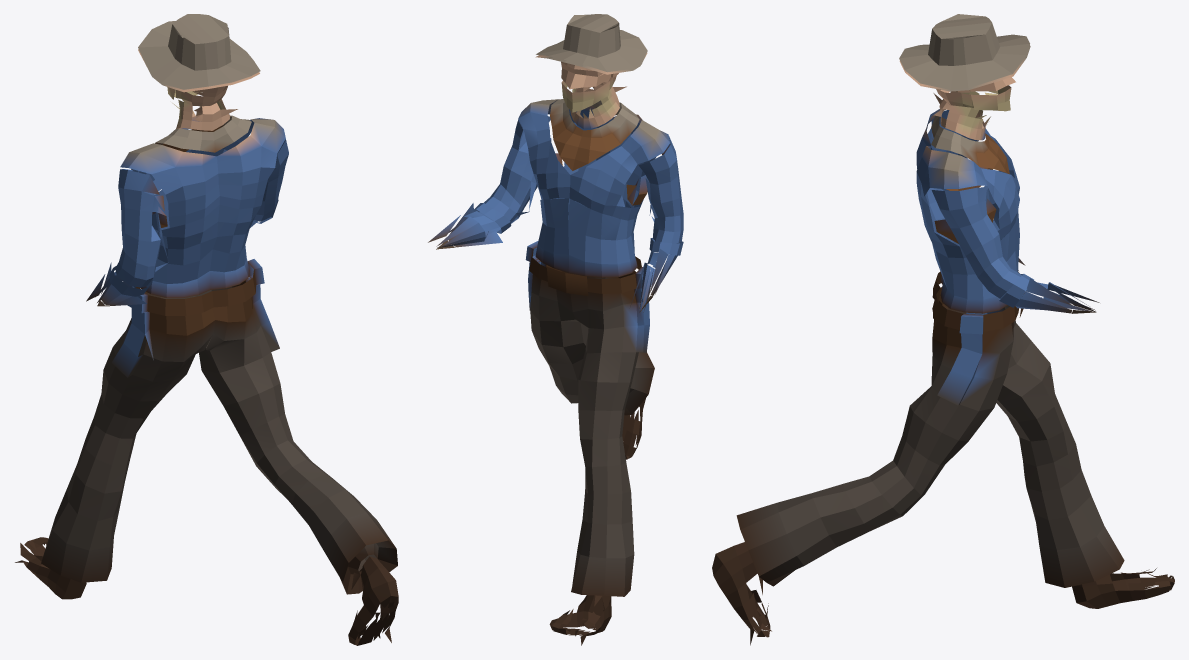
The model's file is man_2_w1.fbx.
The picture shows the model from 3 angles, left to right: view 1: azimuth 30°, elevation 25°; view 2: azimuth 150°, elevation 25°; view 3: azimuth 270°, elevation 25°; orthographic projection. The views are drawn at different scales.
Parts seen in each view (by area): view 1: cowboy; view 2: cowboy; view 3: cowboy.
Part boxes in pixels (<box>): cowboy: <box>15,14,398,645</box>; cowboy: <box>428,14,683,645</box>; cowboy: <box>712,14,1174,645</box>.
Bounding box in the file's own units: 0.3603 × 0.9727 × 0.6585.
